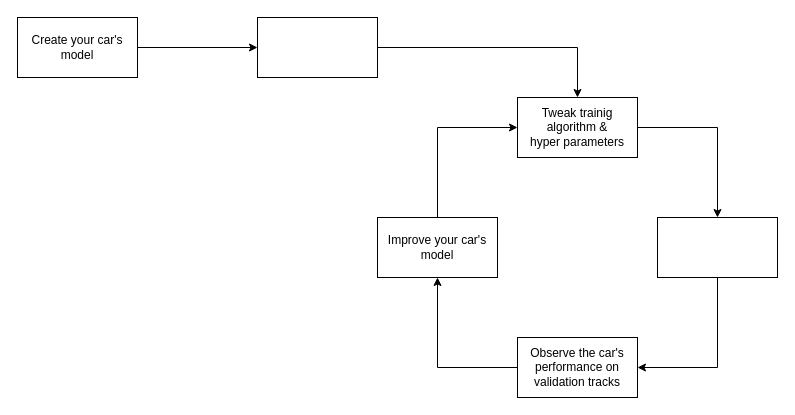
The diagram is 795 pixels wide and 415 high, and some of its shapes have lost their labels. Each missing label, with the centre of its shape:
"Set up your training script" belongs at point 317,47.
"Train on different tracks" belongs at point 717,247.
